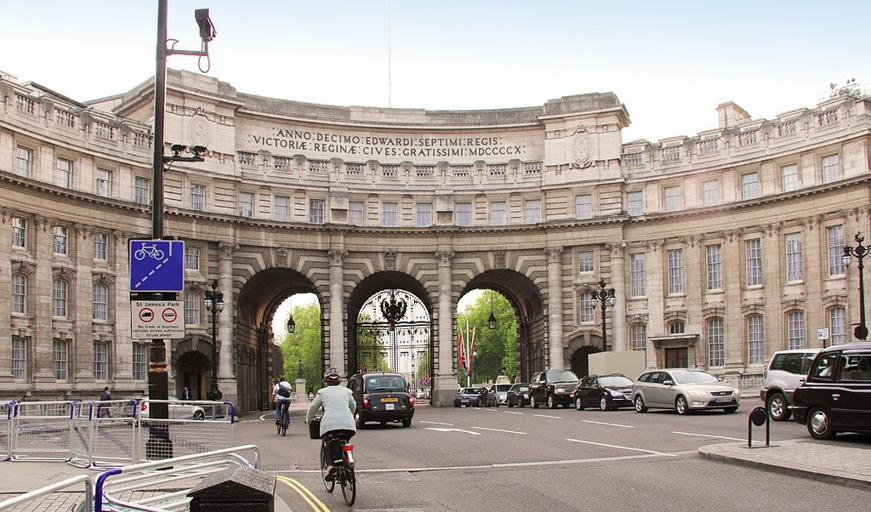non-vehicle: (303, 413, 356, 507), (273, 401, 290, 436)
